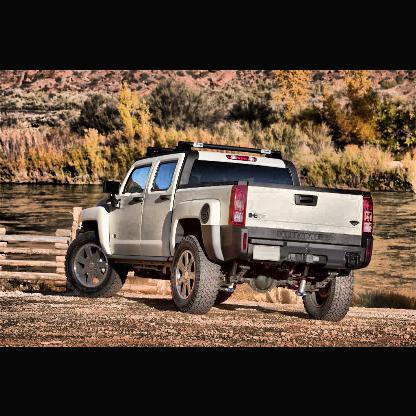HUMMER H3T Crew Cab 2010: (66, 141, 375, 323)
